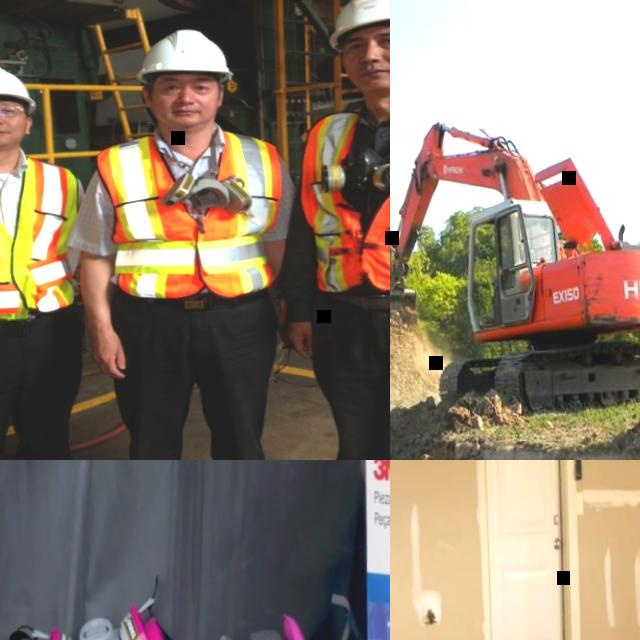Hardhat: (132, 28, 239, 83), (322, 0, 390, 38), (0, 59, 36, 109)
Mask: (16, 600, 188, 640)
NO-Mask: (160, 103, 212, 129), (346, 63, 390, 89), (0, 126, 26, 147)
Person: (58, 18, 307, 460), (268, 0, 390, 460), (0, 52, 104, 460), (482, 244, 517, 327)
Safety Vest: (92, 130, 287, 302), (288, 92, 390, 297), (0, 154, 82, 336)
machinery: (390, 111, 640, 418)
